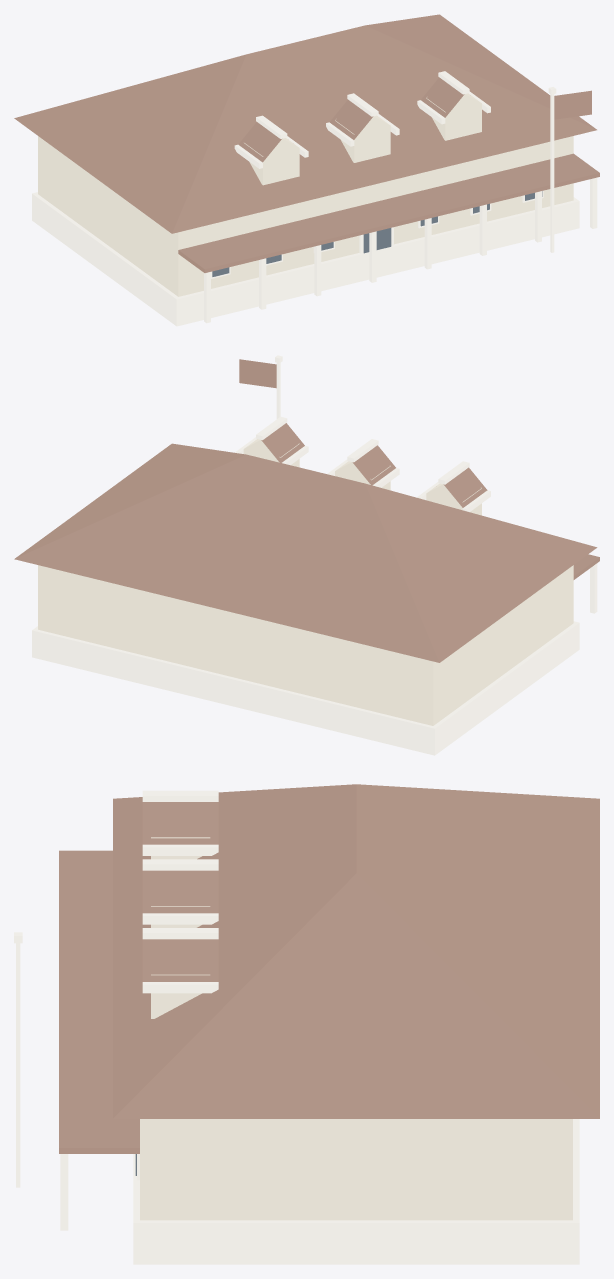
Rendered from Blender_Clubhouse_shingle.glb.
3 views of the same model, one above another, from view 1: azimuth 30°, elevation 25°; view 2: azimuth 150°, elevation 25°; view 3: azimuth 270°, elevation 25° (orthographic). The views are drawn at different scales.
Parts seen in each view (by area): view 1: Blender_Clubhouse_shingle; view 2: Blender_Clubhouse_shingle; view 3: Blender_Clubhouse_shingle.
Part boxes in pixels (left/top/right/bottom): Blender_Clubhouse_shingle: left=14, top=14, right=599, bottom=326; Blender_Clubhouse_shingle: left=14, top=355, right=599, bottom=755; Blender_Clubhouse_shingle: left=14, top=784, right=599, bottom=1264.
Size of the model in its own units: 28 by 11.6 by 21.66.
